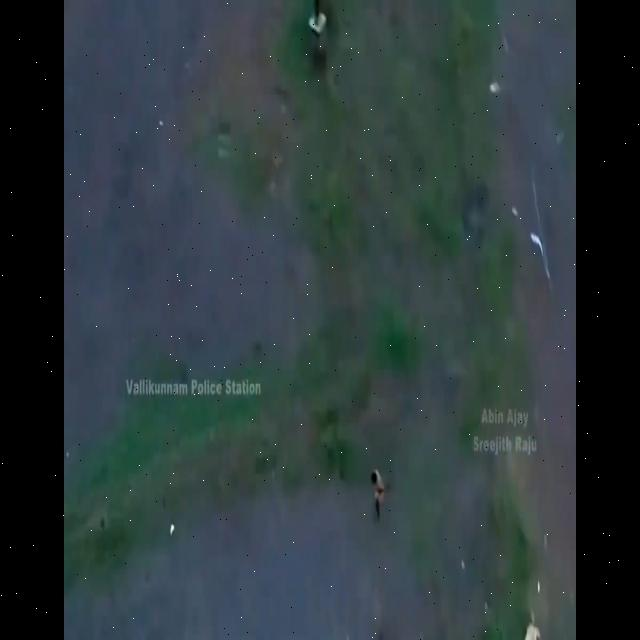humans: (369, 465, 387, 525)
